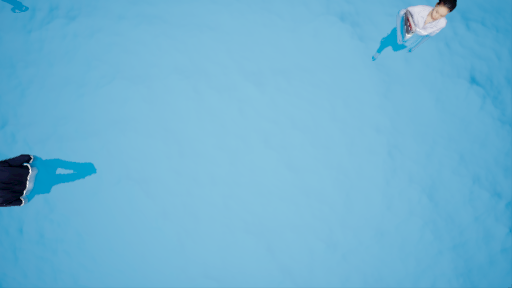person: (2, 155, 102, 211), (375, 1, 454, 66)
